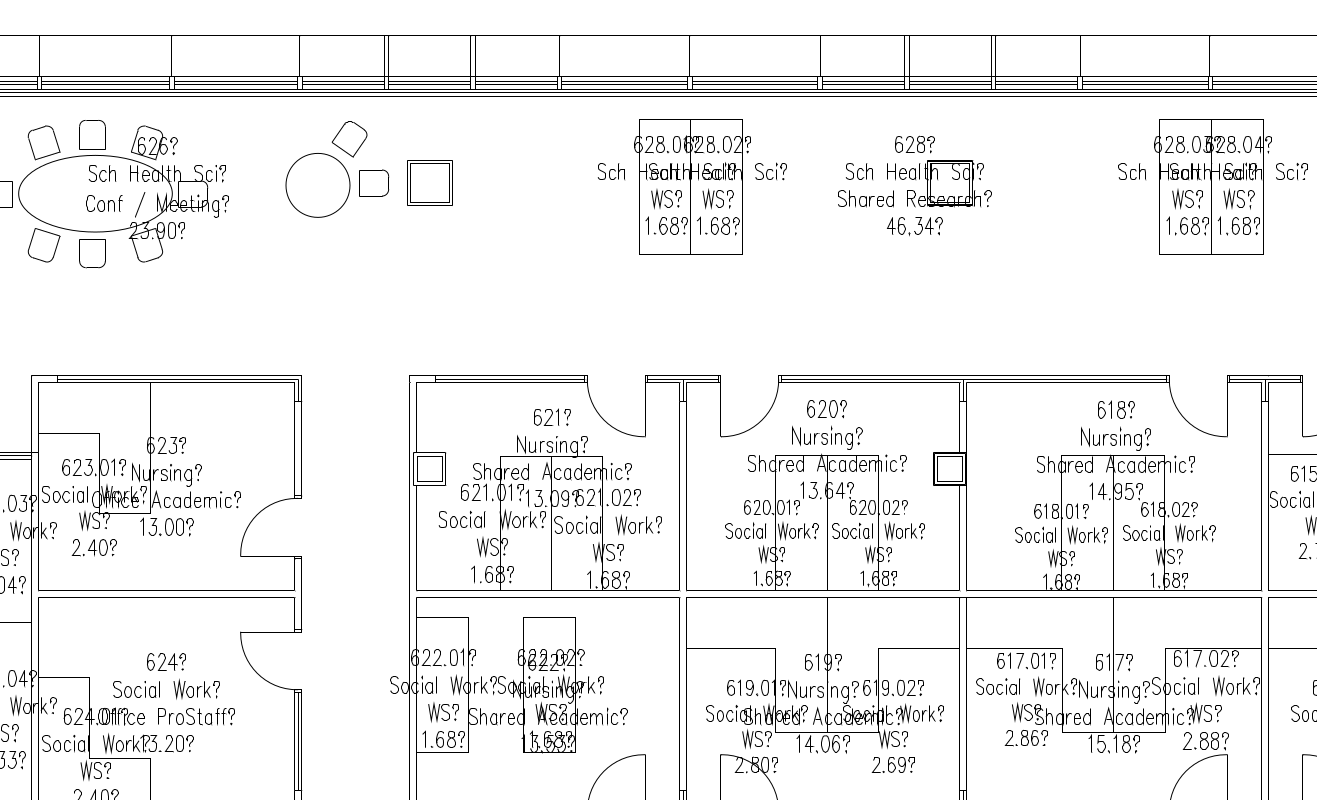door: (230, 626, 305, 698), (226, 490, 301, 562), (585, 382, 650, 447), (716, 381, 781, 446), (1169, 383, 1235, 444), (715, 739, 781, 800), (584, 739, 650, 800)
